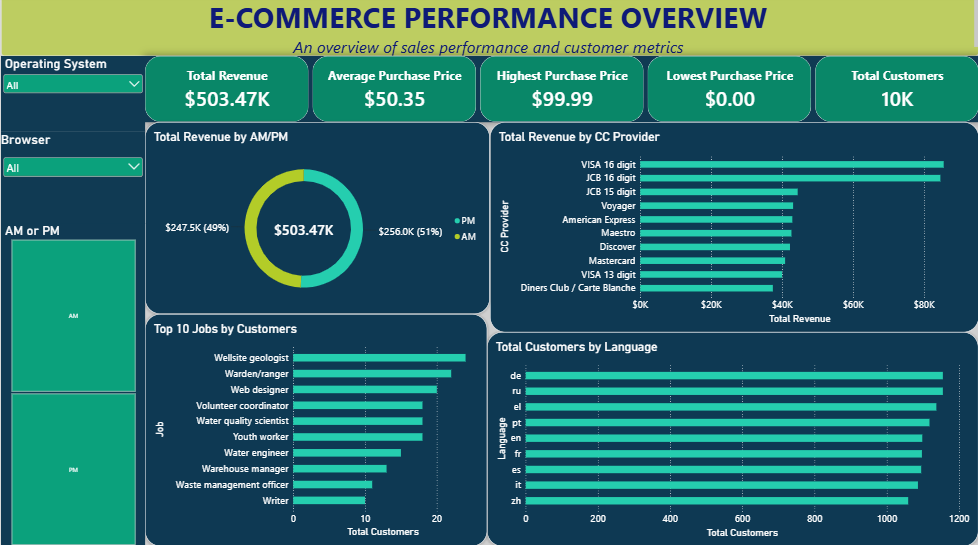

The page's visual inventory and layout, read from the dashboard file:
{"tool":"powerbi","page":{"name":"Page 1","canvas":[1920,1080],"ordinal":2},"visuals":[{"type":"textbox","box":[0,0,1920,118.4],"z":0},{"type":"cardVisual","fields":{"Data":["Ecommerce Purchases.Total Revenue","Ecommerce Purchases.Average Purchase Price","Ecommerce Purchases.Highest Purchase Price","Ecommerce Purchases.Lowest Purchase Price","Ecommerce Purchases.Total Customers"]},"box":[282.8,117.8,1637.7,129.6],"z":1},{"type":"clusteredBarChart","title":"Total Revenue by CC Provider","fields":{"Category":["Ecommerce Purchases.CC Provider"],"Y":["Ecommerce Purchases.Total Revenue"]},"box":[960,246.9,960,413.2],"z":2},{"type":"donutChart","title":"Total Revenue by AM/PM","fields":{"Category":["Ecommerce Purchases.AM or PM"],"Y":["Ecommerce Purchases.Total Revenue"]},"box":[282.8,247.4,677.5,377],"z":3},{"type":"barChart","title":"Total Customers by Language","fields":{"Category":["Ecommerce Purchases.Language"],"Y":["Ecommerce Purchases.Total Customers"]},"box":[955,660.2,965,420.8],"z":4},{"type":"barChart","title":"Top 10 Jobs by Customers","fields":{"Category":["Ecommerce Purchases.Job"],"Y":["Ecommerce Purchases.Total Customers"]},"box":[282.8,624.4,671.6,455.6],"z":5},{"type":"slicer","fields":{"Values":["Ecommerce Purchases.AM or PM"]},"box":[0,445.7,282.8,634.3],"z":6},{"type":"slicer","title":"Browser","fields":{"Values":["Ecommerce Purchases.Browser"]},"box":[0,267.1,282.8,178.7],"z":7},{"type":"slicer","fields":{"Values":["Ecommerce Purchases.Operating System"]},"box":[0,117.8,282.8,149.2],"z":8}]}

Visuals, with their boxes in screenshot pixels (x1, y1, x2, y2), scaled from the page's 1920x1080 canvas onto the 978x545 screenshot:
textbox: 0,0,977,60
cardVisual - Ecommerce Purchases.Total Revenue x Ecommerce Purchases.Average Purchase Price: 144,59,977,125
"Total Revenue by CC Provider" clusteredBarChart: 489,125,977,333
"Total Revenue by AM/PM" donutChart: 144,125,489,315
"Total Customers by Language" barChart: 486,333,977,544
"Top 10 Jobs by Customers" barChart: 144,315,486,544
slicer - Ecommerce Purchases.AM or PM: 0,225,144,544
"Browser" slicer: 0,135,144,225
slicer - Ecommerce Purchases.Operating System: 0,59,144,135
